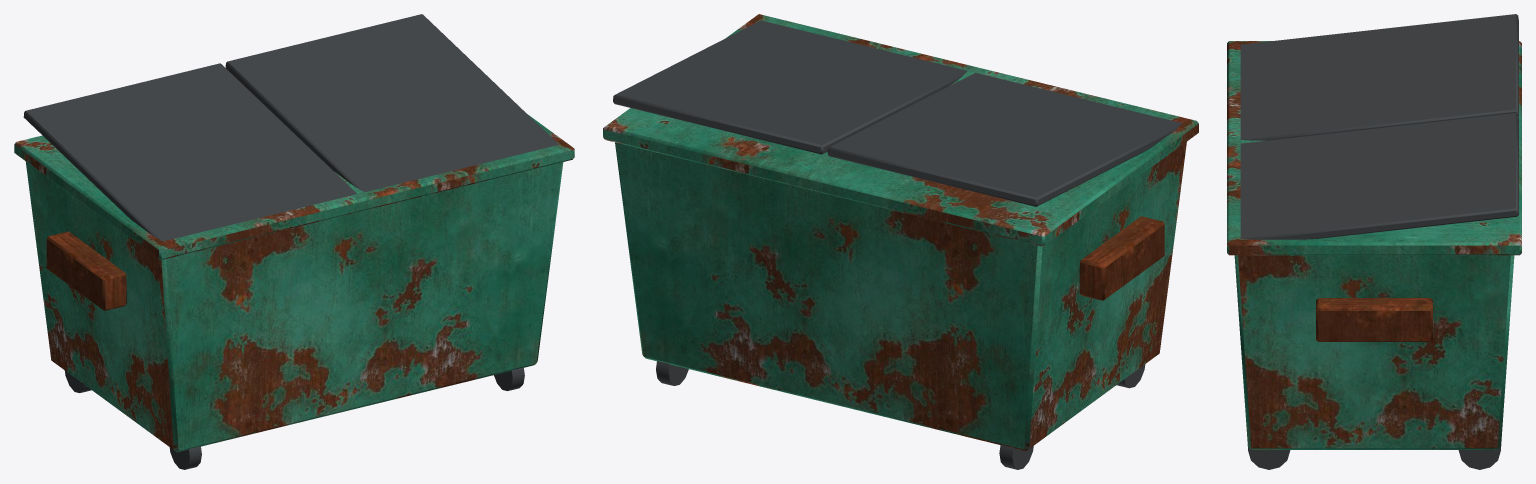
Rendered from dumpster.glb.
3 renders of one model, left to right at view 1: azimuth 30°, elevation 25°; view 2: azimuth 150°, elevation 25°; view 3: azimuth 270°, elevation 25°, orthographic. The views are drawn at different scales.
Parts seen in each view (by area): view 1: dumpster; view 2: dumpster; view 3: dumpster.
Part boxes in pixels (box(x1,y1,x2,y2)): dumpster: box(14, 14, 574, 469); dumpster: box(603, 14, 1198, 469); dumpster: box(1227, 14, 1521, 469).
Bounding box in the file's own units: 2.18 × 1.3 × 1.26.
3 materials, 2 textured.
